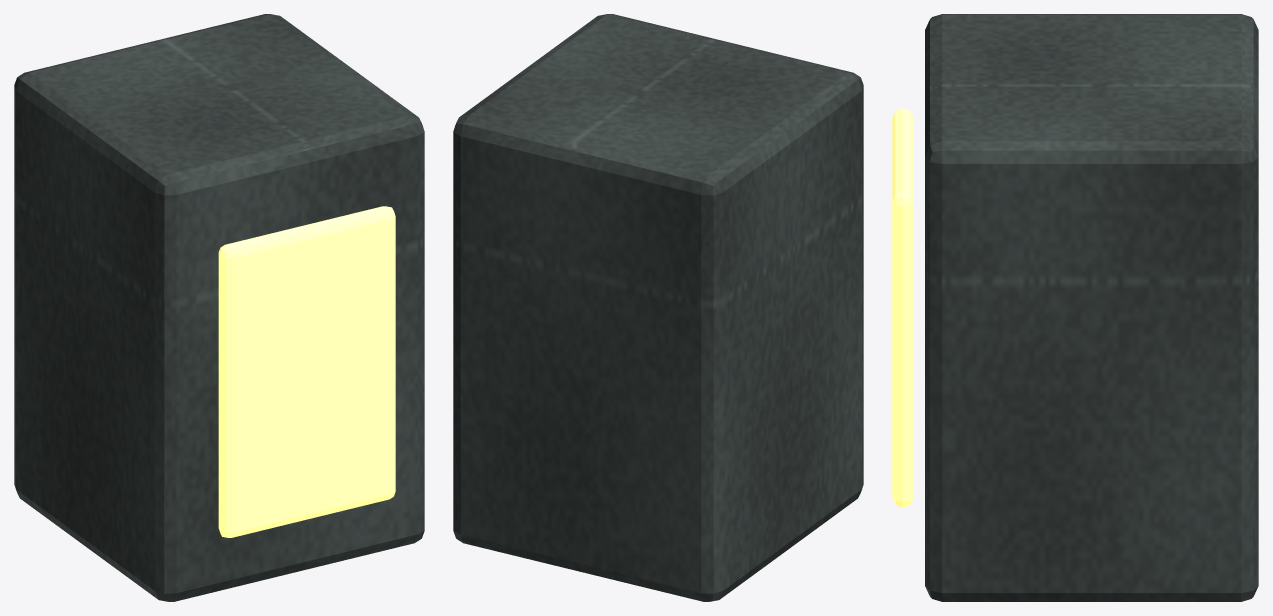
The model's file is lamp.glb.
3 views of the same model, side by side, from view 1: azimuth 30°, elevation 25°; view 2: azimuth 150°, elevation 25°; view 3: azimuth 270°, elevation 25° (orthographic). The views are drawn at different scales.
Visible parts, largest first — view 1: Lamp cage.002, Lamp light.002; view 2: Lamp cage.002; view 3: Lamp cage.002, Lamp light.002.
Boxes of the visible parts, x1,y1,x2,y2 form: Lamp cage.002: [14, 14, 424, 601]; Lamp light.002: [218, 206, 395, 537]; Lamp cage.002: [453, 14, 863, 601]; Lamp cage.002: [925, 14, 1258, 601]; Lamp light.002: [892, 108, 913, 507].
Bounding box in the file's own units: 0.23 × 0.35 × 0.2525.
Materials: 2 (1 with a texture image).
